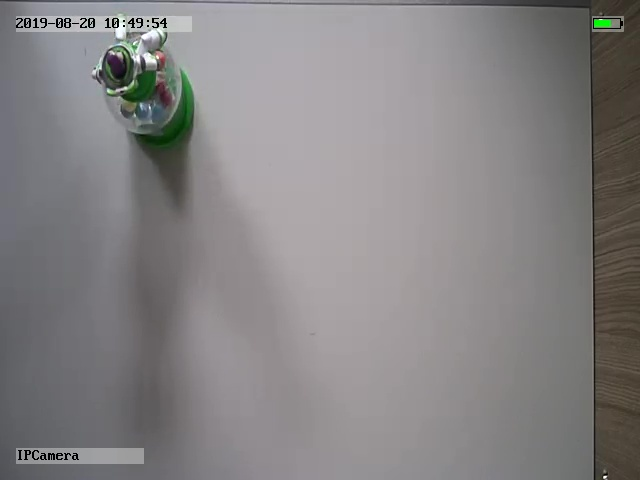buzz: (89, 14, 196, 141)
